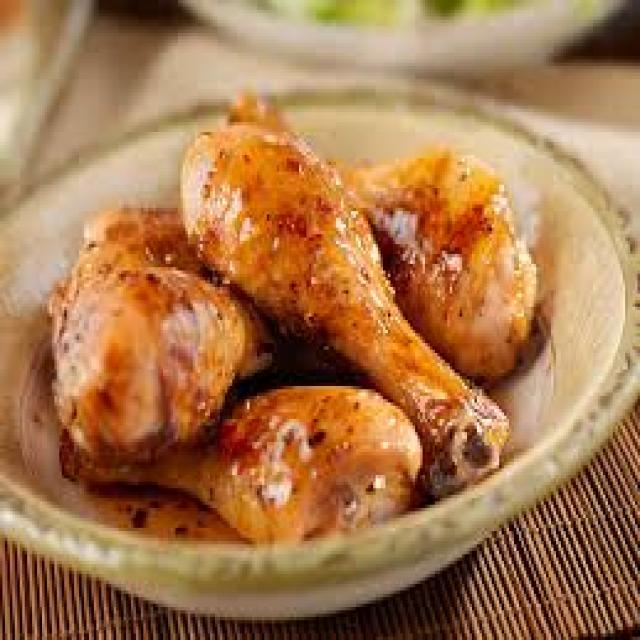Frango: (40, 89, 536, 551)
